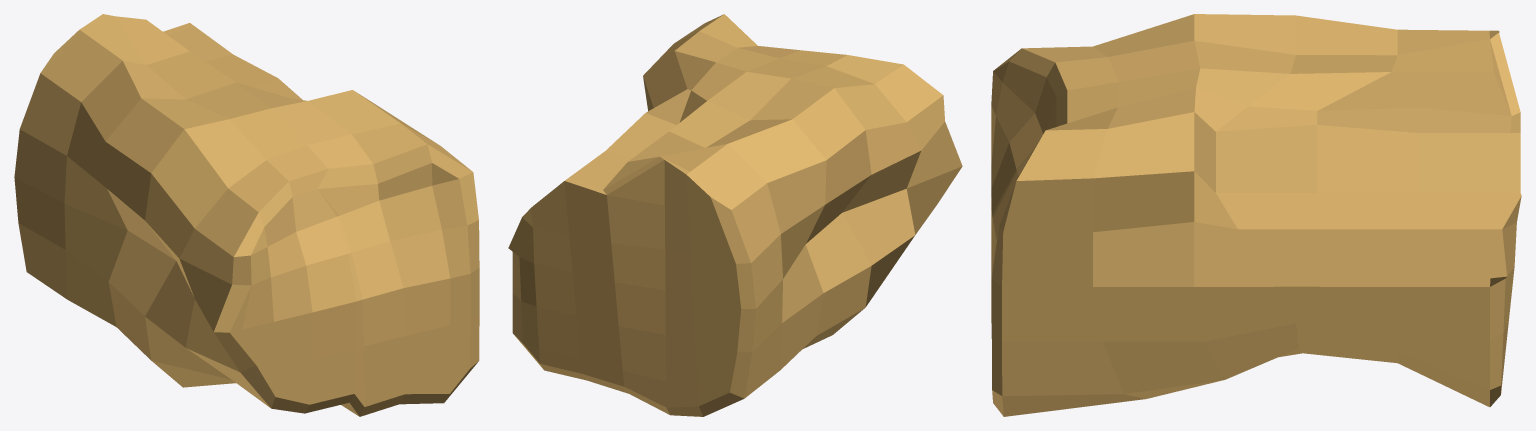
File: RockyWall03.fbx
3 renders of one model, left to right at view 1: azimuth 30°, elevation 25°; view 2: azimuth 150°, elevation 25°; view 3: azimuth 270°, elevation 25°, orthographic. The views are drawn at different scales.
Parts seen in each view (by area): view 1: Wall; view 2: Wall; view 3: Wall.
Part boxes in pixels (box(x1,y1,x2,y2)): Wall: box(14, 14, 479, 416); Wall: box(508, 14, 962, 416); Wall: box(991, 14, 1521, 416).
Bounding box in the file's own units: 1623 × 1586 × 2398.
